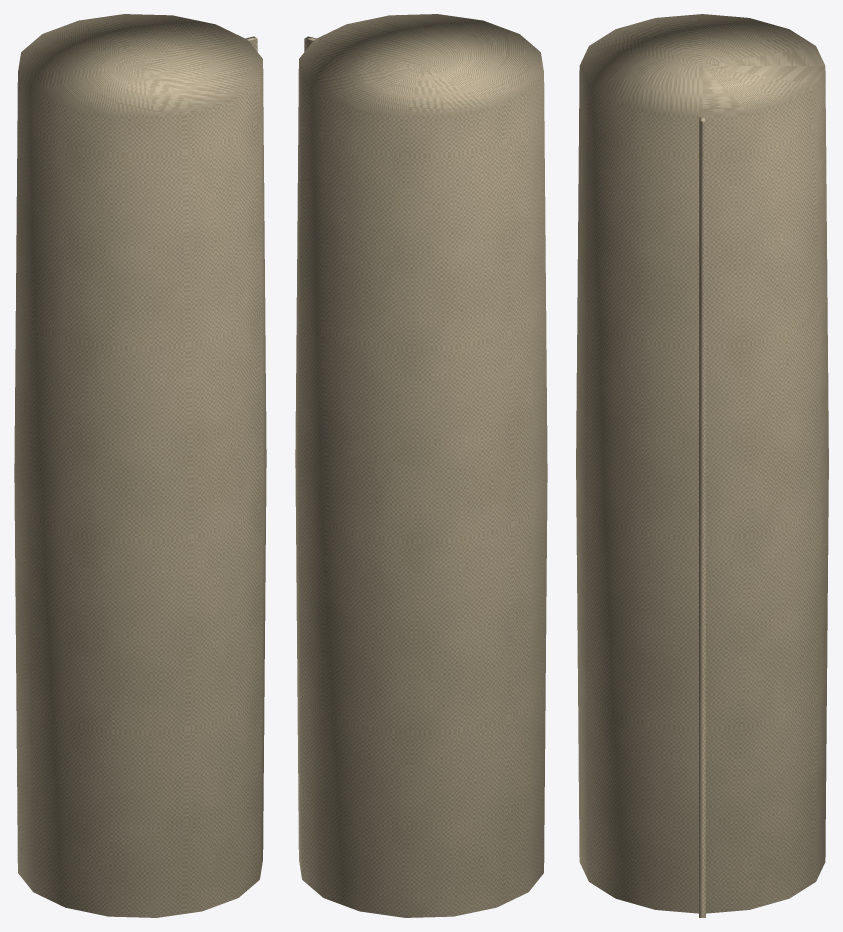
The model's file is it_cloth_bolt.glb.
The picture shows the model from 3 angles, left to right: view 1: azimuth 30°, elevation 25°; view 2: azimuth 150°, elevation 25°; view 3: azimuth 270°, elevation 25°; orthographic projection.
Parts seen in each view (by area): view 1: it_cloth_bolt_lod0; view 2: it_cloth_bolt_lod0; view 3: it_cloth_bolt_lod0.
Boxes of the visible parts, box(x1,y1,x2,y2) form: it_cloth_bolt_lod0: box(14, 14, 266, 917); it_cloth_bolt_lod0: box(295, 14, 547, 917); it_cloth_bolt_lod0: box(576, 14, 828, 917).
Size of what is drawn, in the model's own units: 0.1475 by 0.5 by 0.144.
Materials: 1 (1 with a texture image).
